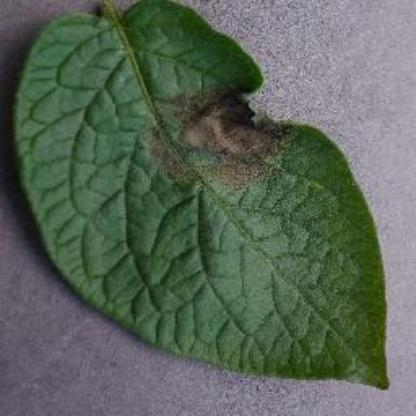Late-Blight: (9, 1, 397, 395)
